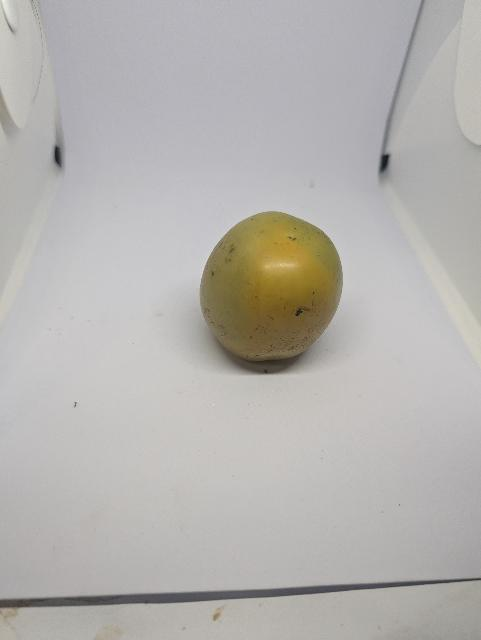breaker: (194, 202, 351, 366)
